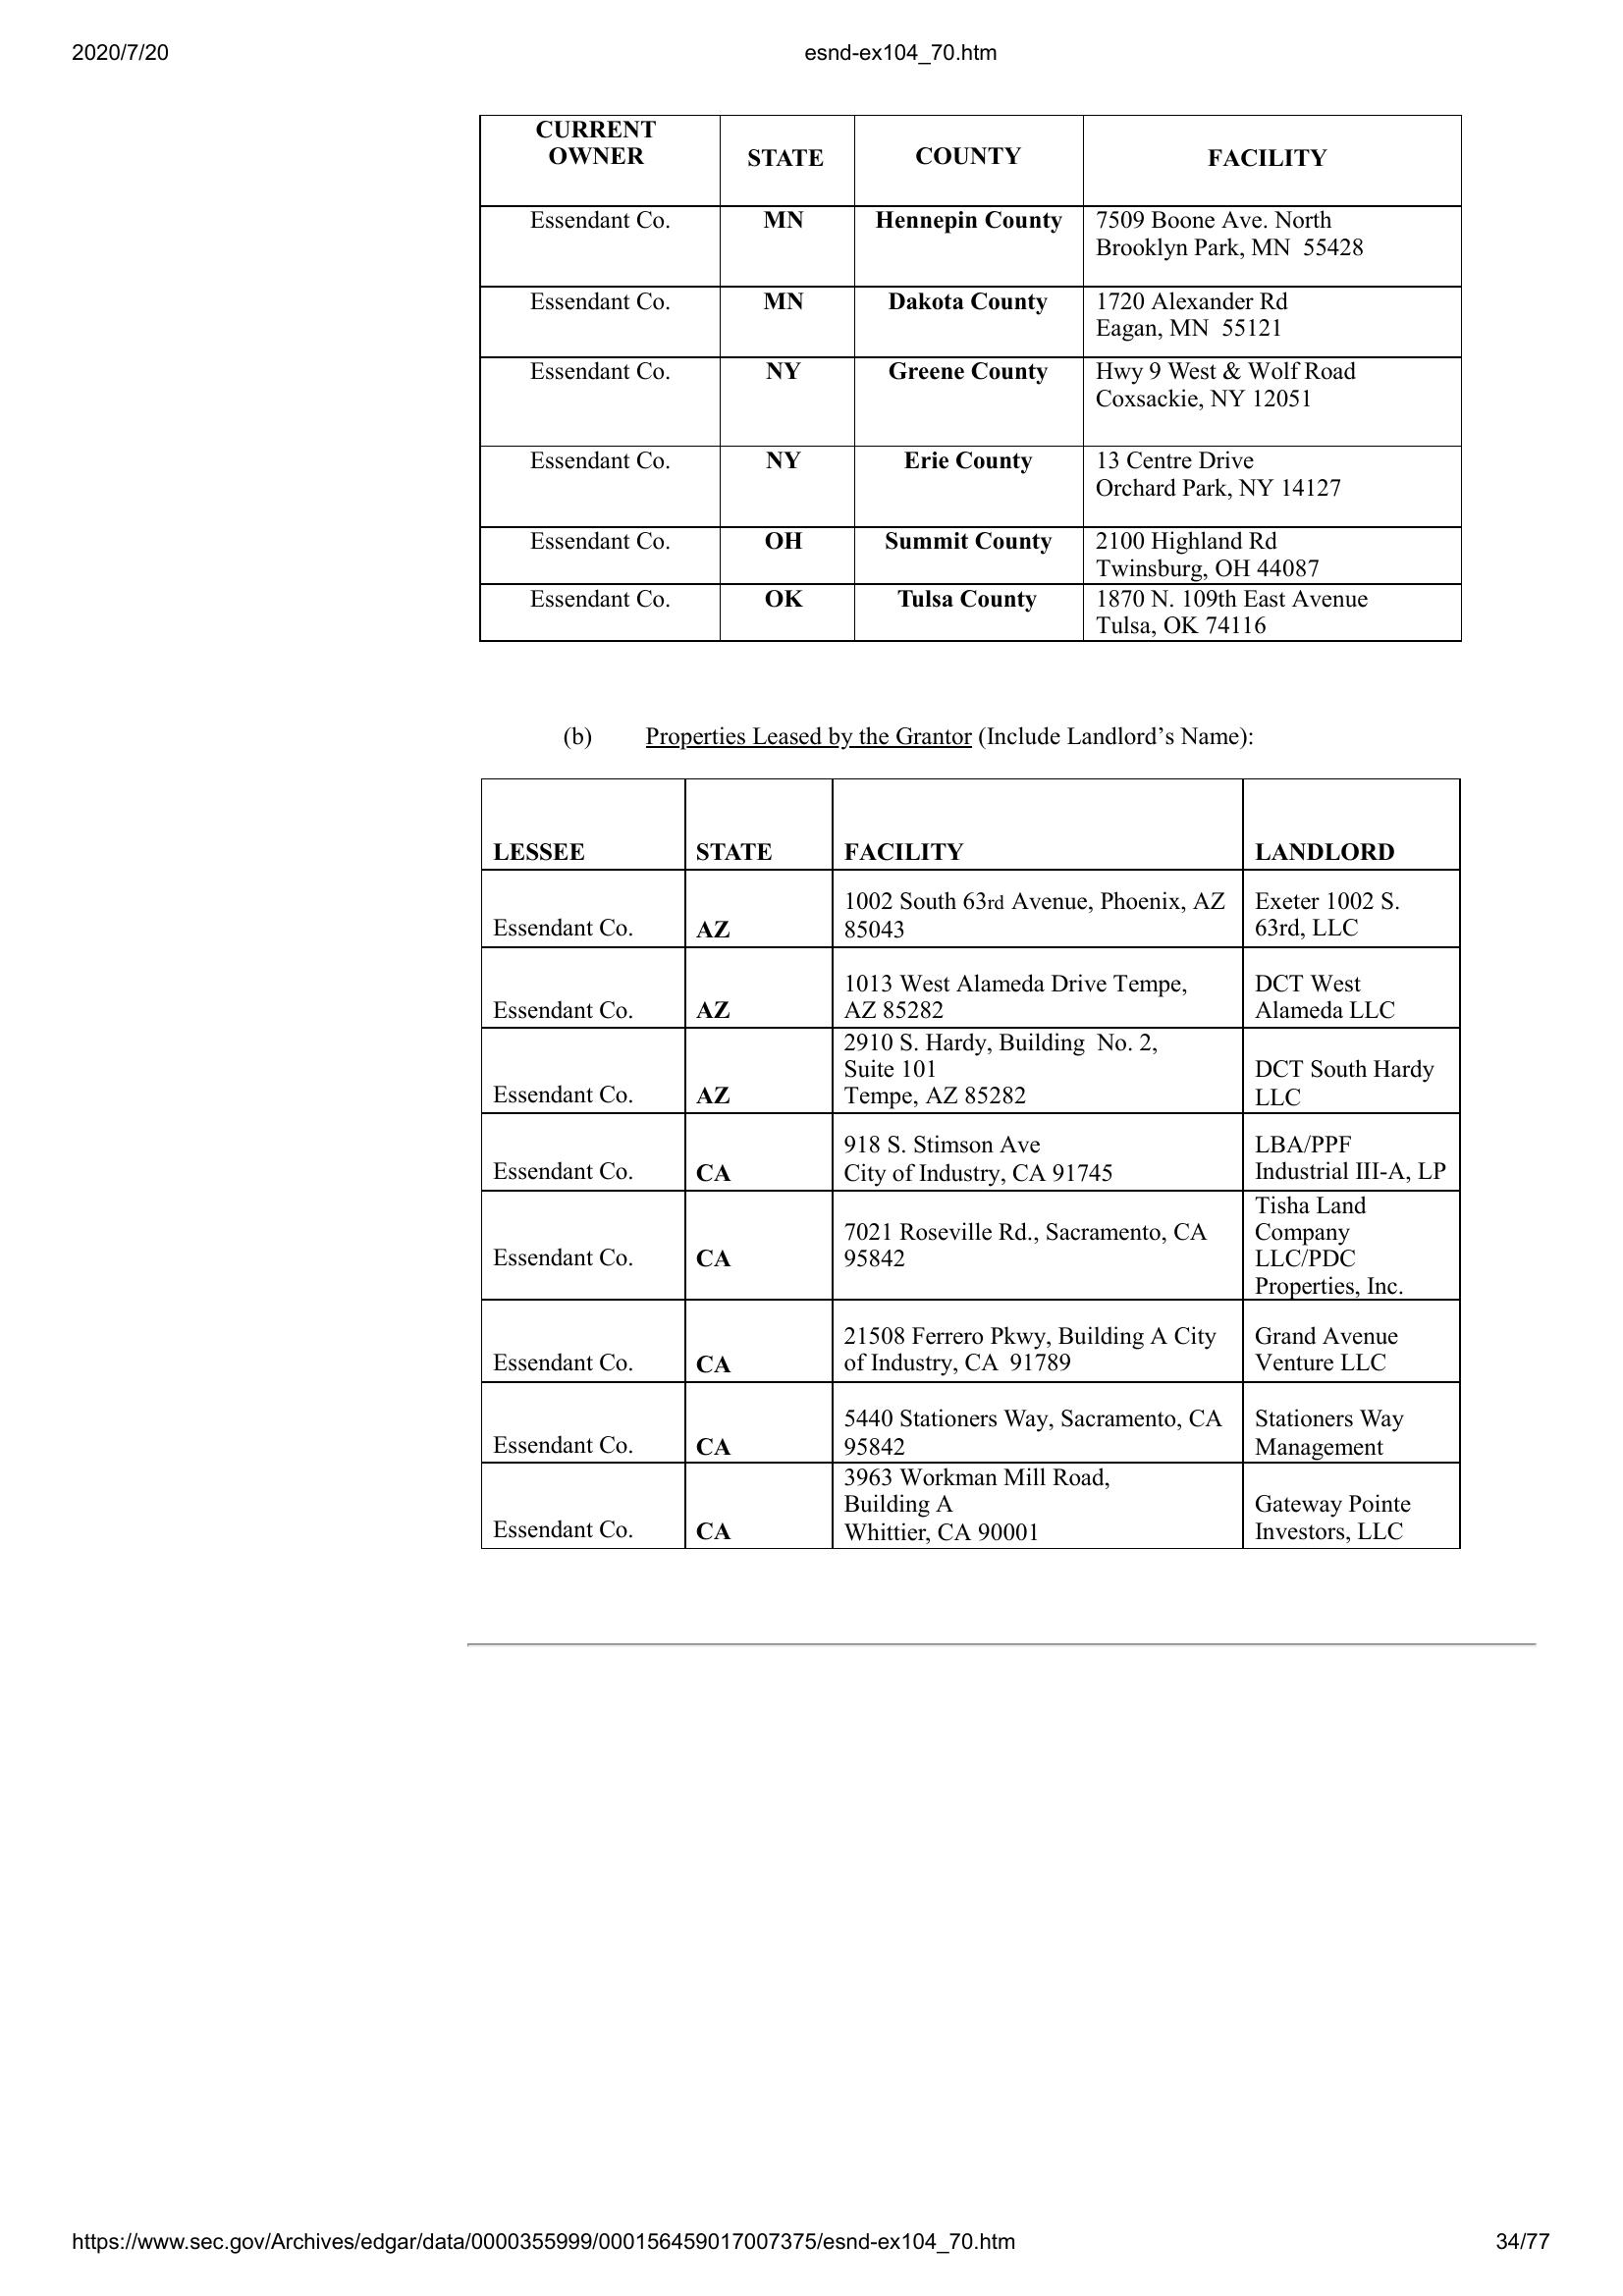table: (476, 774, 1467, 1557), (471, 109, 1465, 648)
